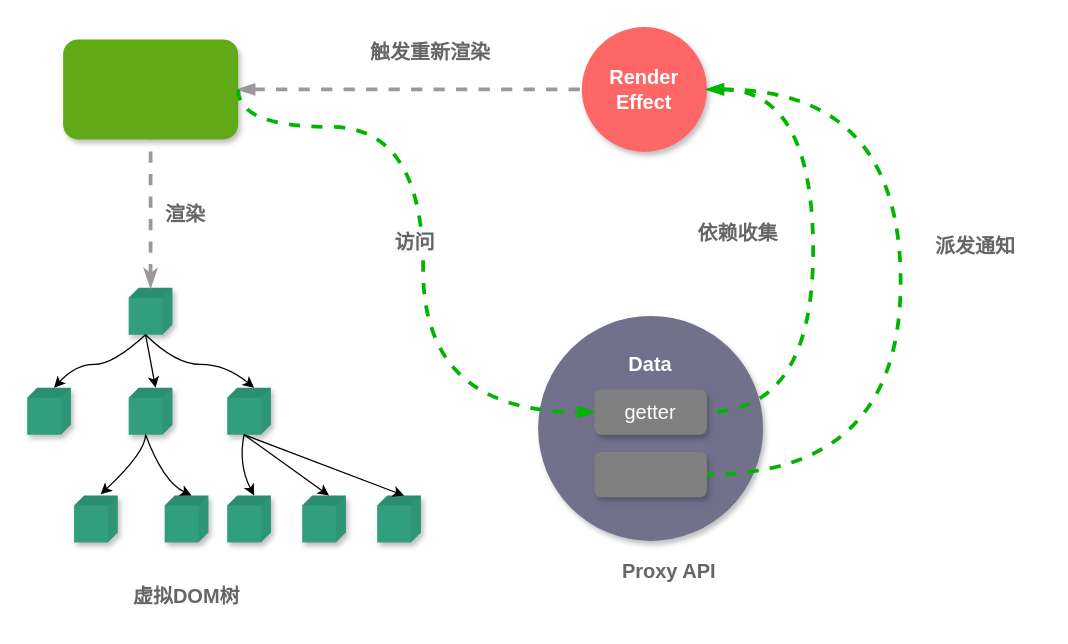
The diagram is 1068 pixels wide and 644 high, and some of its shapes have lost their labels. Here are the shapes that lost their labels. From the top down, the centre of each, then its label:
point 151,91: Component Render Function
point 651,475: setter
